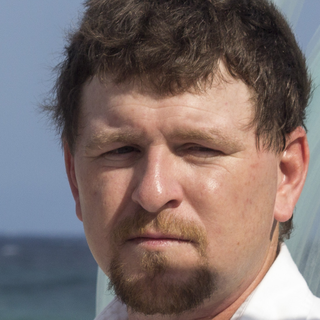eye: (175, 140, 228, 163), (97, 140, 146, 164)
